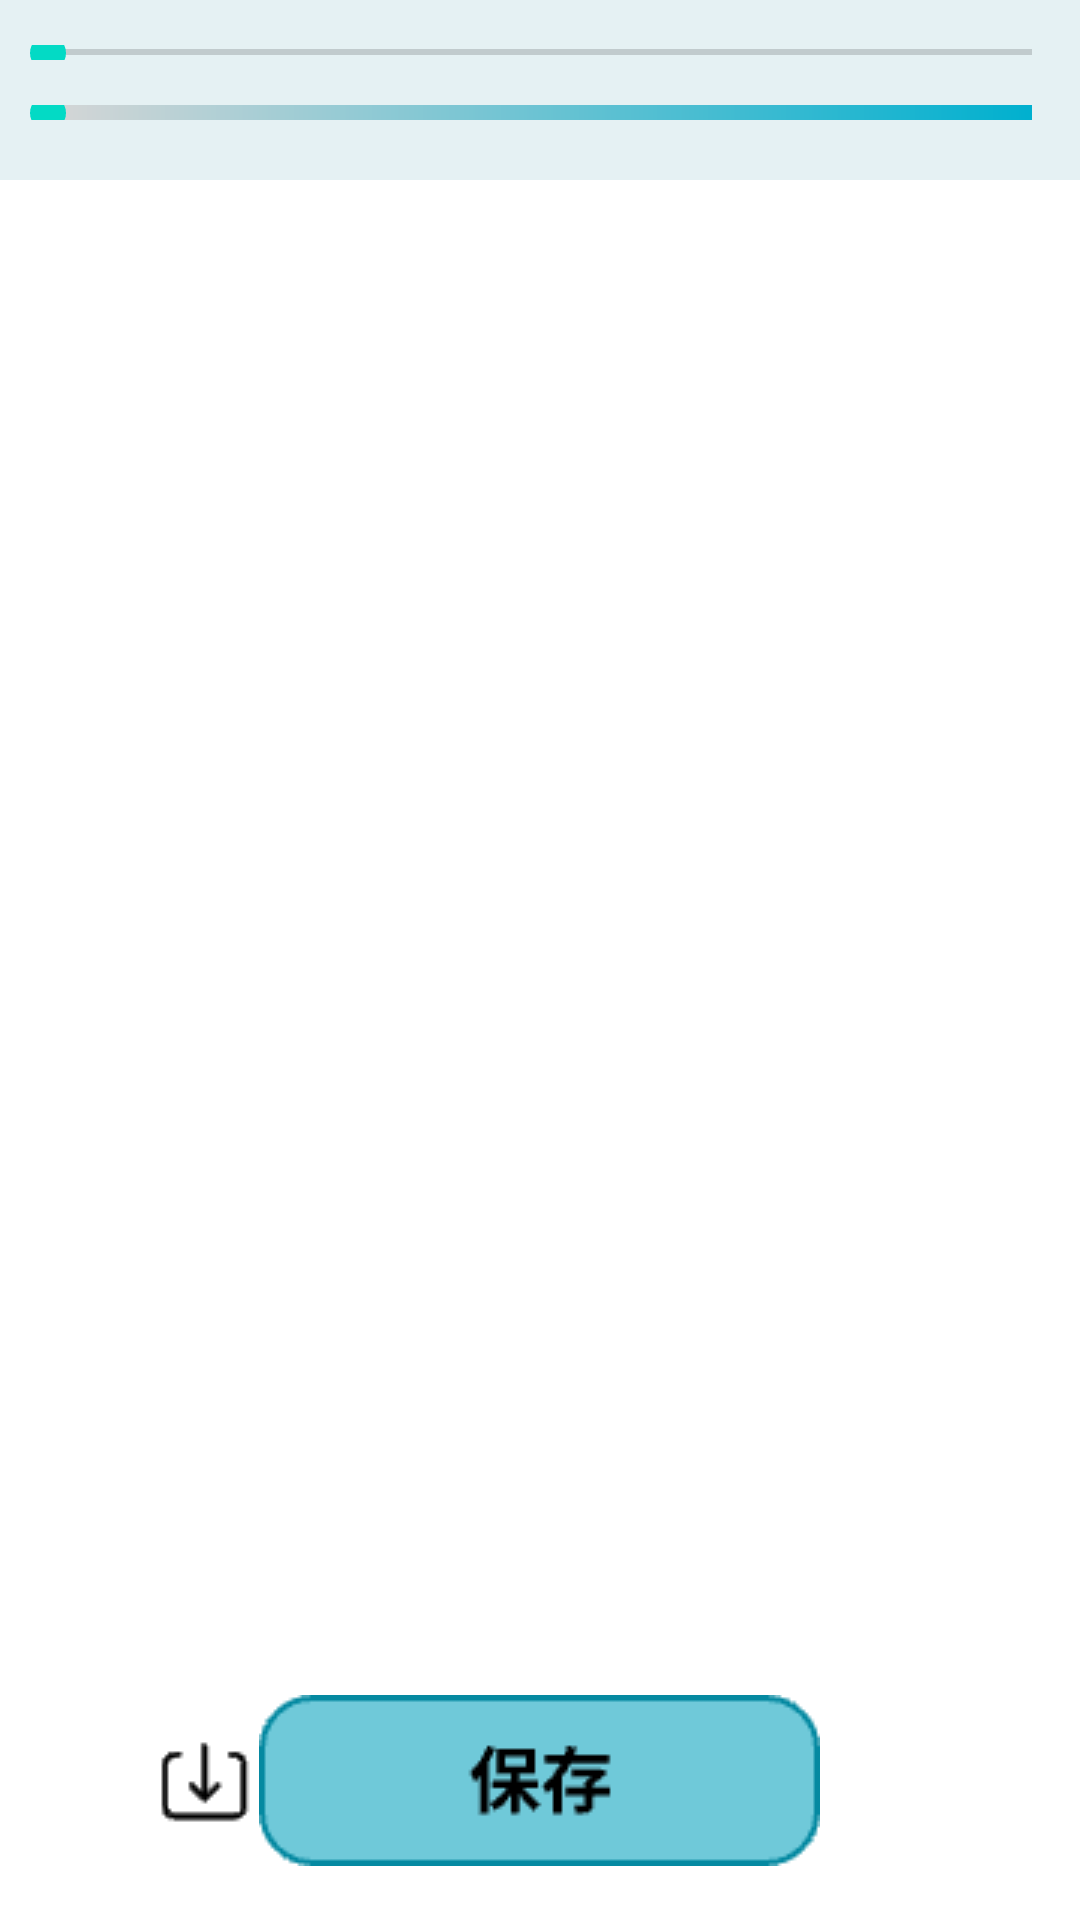

Screen size 1080 × 1920. Icon name, then its center in pixels as point (x, y):
download: point (205, 1782)
